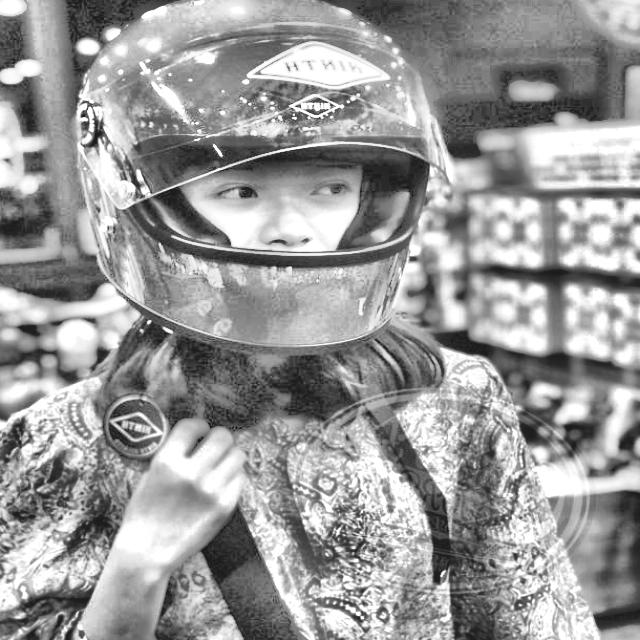Helmet: (66, 0, 469, 365)
